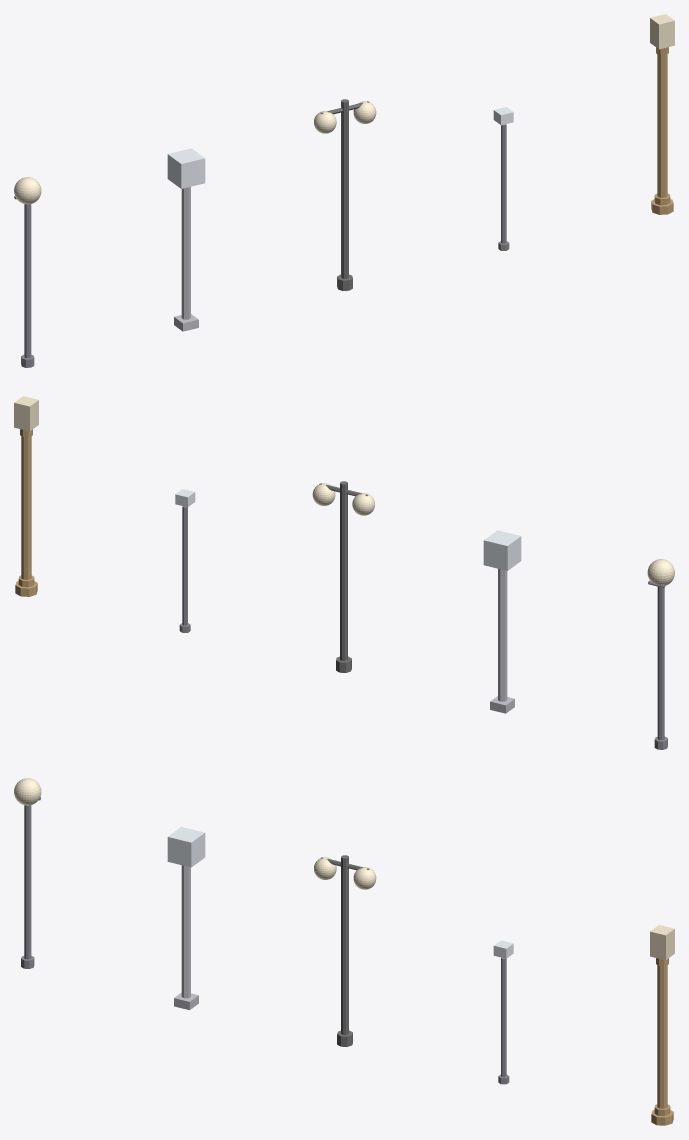
Rendered from StreetLamps.fbx.
3 renders of one model, top to bottom at view 1: azimuth 30°, elevation 25°; view 2: azimuth 150°, elevation 25°; view 3: azimuth 330°, elevation 25°, orthographic.
Visible parts, largest first — view 1: StreetLamp5_Pole, StreetLamp3_Pole, StreetLamp2_Pole, StreetLamp2_Head, StreetLamp1_Pole, StreetLamp5_Head, StreetLamp4_Pole, StreetLamp1_Head; view 2: StreetLamp5_Pole, StreetLamp3_Pole, StreetLamp2_Pole, StreetLamp2_Head, StreetLamp1_Pole, StreetLamp5_Head, StreetLamp4_Pole, StreetLamp1_Head; view 3: StreetLamp5_Pole, StreetLamp3_Pole, StreetLamp2_Pole, StreetLamp2_Head, StreetLamp1_Pole, StreetLamp5_Head, StreetLamp4_Pole, StreetLamp1_Head.
Boxes of the visible parts, box(x1,y1,x2,y2) form: StreetLamp5_Pole: box(657, 54, 667, 197); StreetLamp3_Pole: box(341, 99, 348, 278); StreetLamp2_Pole: box(181, 187, 190, 319); StreetLamp2_Head: box(167, 148, 205, 188); StreetLamp1_Pole: box(24, 204, 31, 358); StreetLamp5_Head: box(650, 14, 674, 49); StreetLamp4_Pole: box(501, 124, 506, 243); StreetLamp1_Head: box(14, 177, 41, 204); StreetLamp5_Pole: box(21, 436, 31, 579); StreetLamp3_Pole: box(340, 481, 347, 660); StreetLamp2_Pole: box(498, 569, 507, 701); StreetLamp2_Head: box(483, 530, 521, 570); StreetLamp1_Pole: box(657, 586, 664, 740); StreetLamp5_Head: box(14, 396, 38, 431); StreetLamp4_Pole: box(182, 506, 187, 625); StreetLamp1_Head: box(647, 559, 674, 585); StreetLamp5_Pole: box(657, 965, 667, 1108); StreetLamp3_Pole: box(341, 855, 348, 1034); StreetLamp2_Pole: box(181, 865, 190, 998); StreetLamp2_Head: box(167, 827, 205, 867); StreetLamp1_Pole: box(24, 805, 31, 959); StreetLamp5_Head: box(650, 925, 674, 960); StreetLamp4_Pole: box(501, 957, 506, 1077); StreetLamp1_Head: box(14, 778, 41, 805).
Bounding box in the file's own units: 1655 × 460 × 60.
